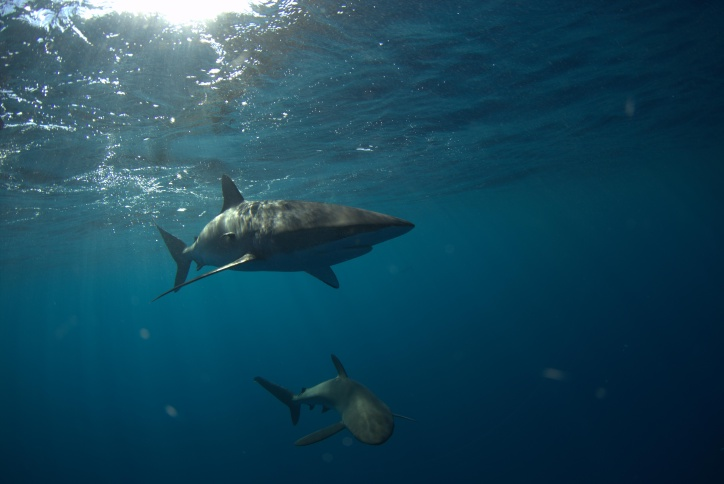Sedoso: (134, 167, 426, 317)
